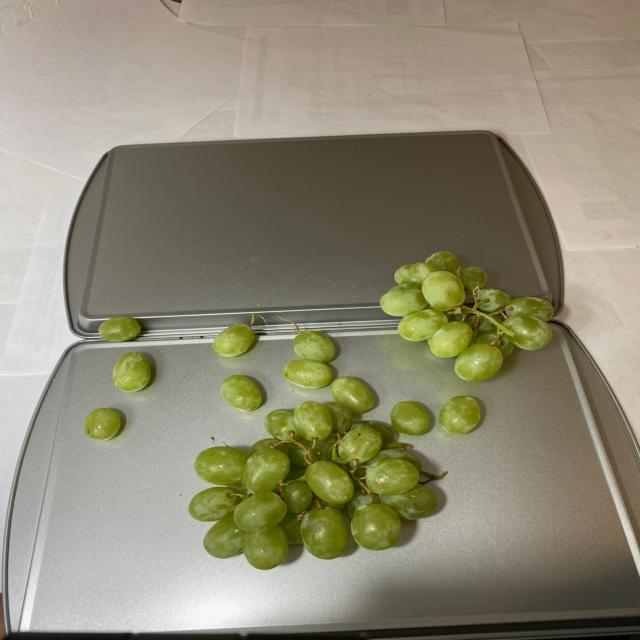Grapes: (82, 253, 551, 570)
